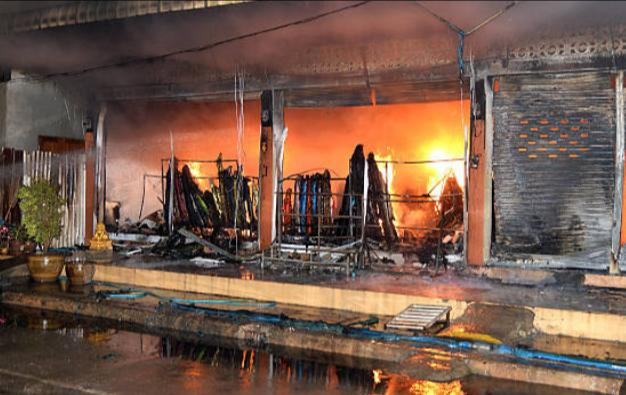fire: (344, 100, 471, 268), (153, 144, 249, 194)
smoke: (34, 3, 536, 111)
